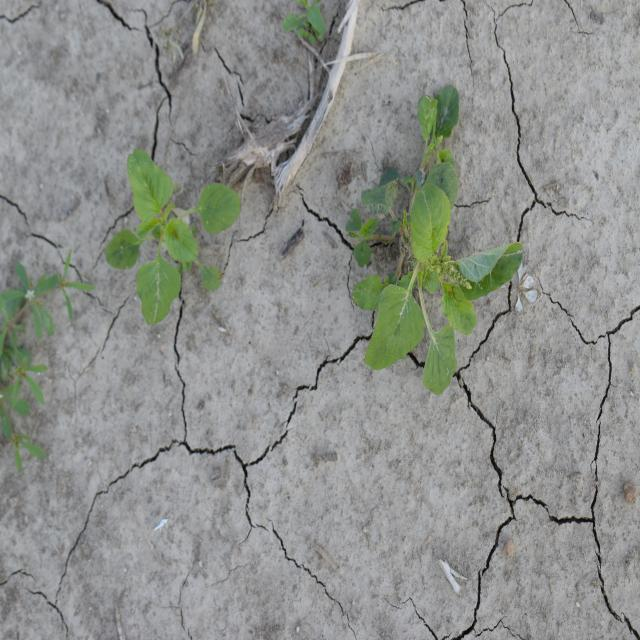Carpetweed: (2, 237, 98, 474)
PalmerAmaranth: (344, 83, 526, 397), (104, 146, 243, 328)
